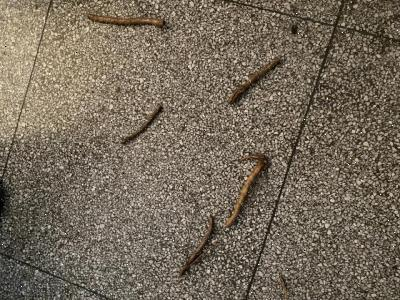Root: (225, 154, 267, 226), (227, 58, 280, 104), (180, 217, 214, 275), (121, 105, 162, 143), (88, 15, 164, 27)
